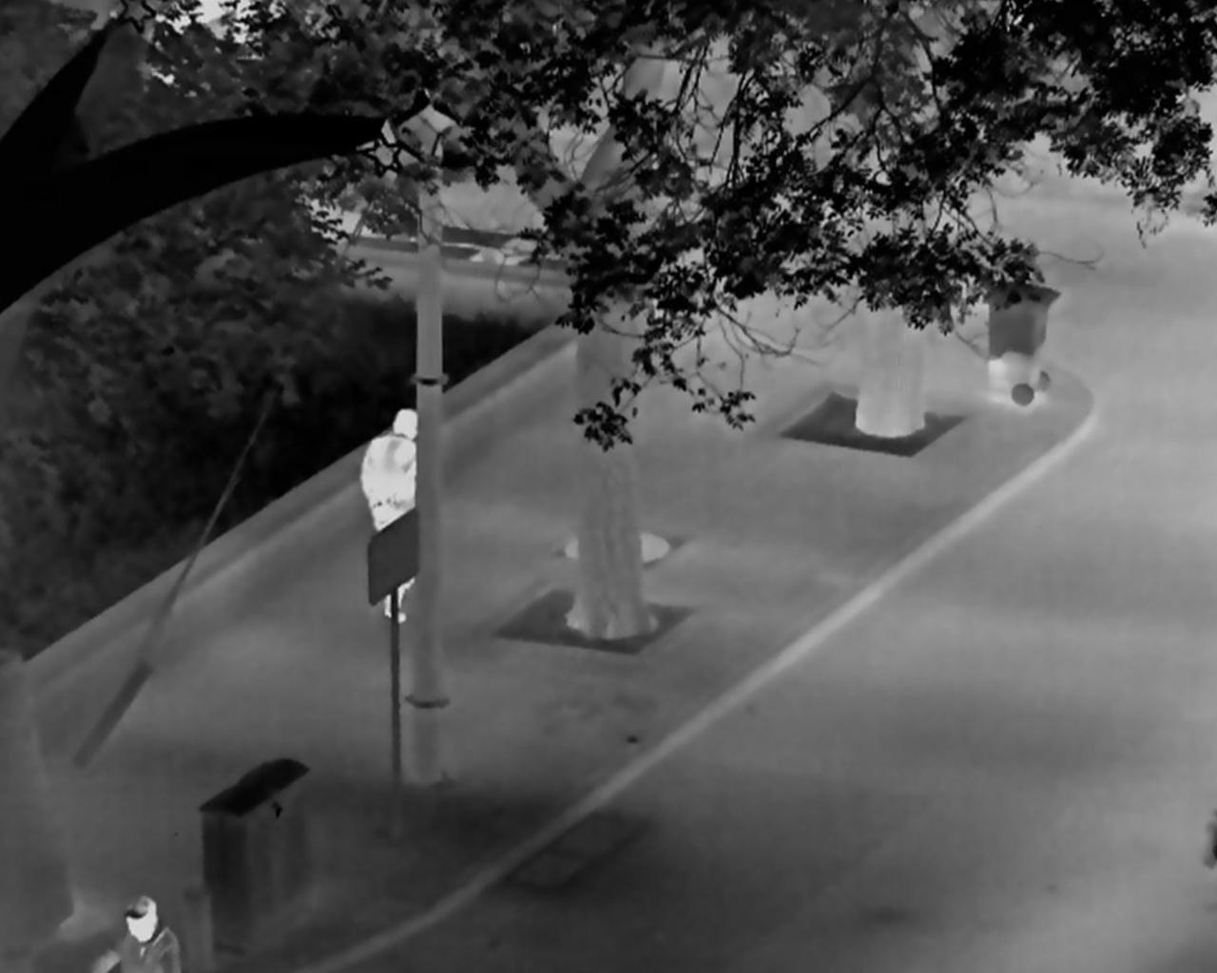person: (357, 409, 417, 623), (81, 893, 184, 973)
